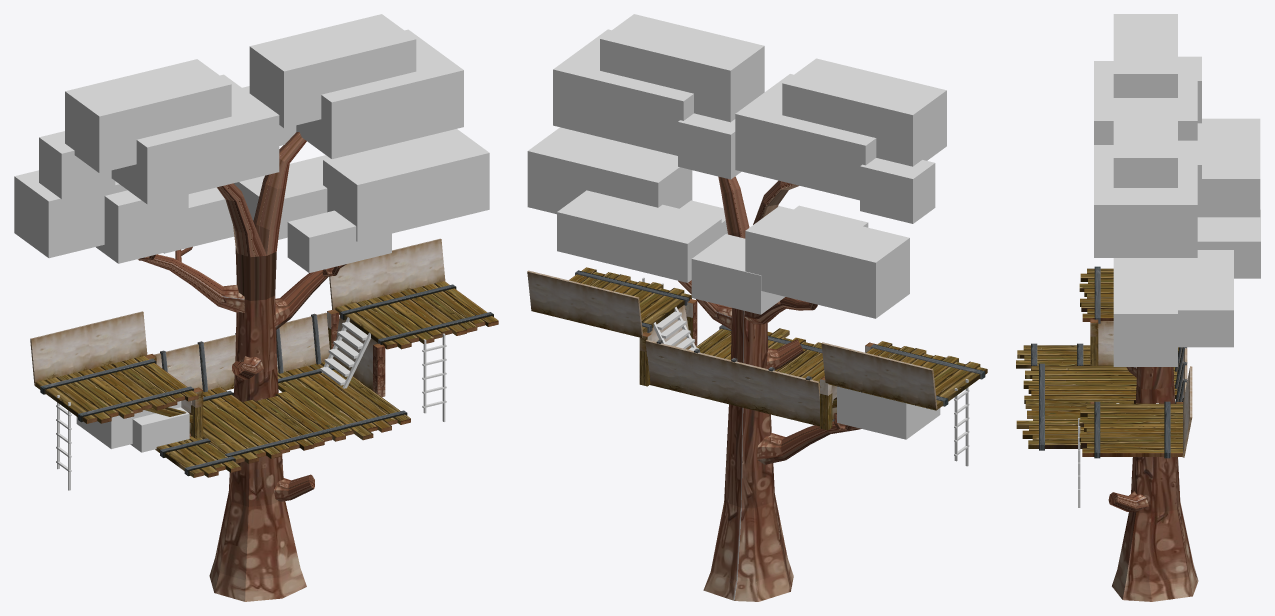
The model's file is House_Mesh.FBX.
3 renders of one model, left to right at view 1: azimuth 30°, elevation 25°; view 2: azimuth 150°, elevation 25°; view 3: azimuth 270°, elevation 25°, orthographic. The views are drawn at different scales.
Parts seen in each view (by area): view 1: Box016, Box039, Box041, Box051, Box048, Box052, Box049, Box044, Box045, Box042, Box040, Box053 (+3 smaller); view 2: Box016, Box039, Box044, Box051, Box048, Box040, Box041, Box052, Box049, Box043, Box053, Box046 (+1 smaller); view 3: Box016, Box039, Box049, Box041, Box044, Box048, Box051, Box040, Box052, Box043, Box050, Box053.
Part boxes in pixels (x1,y1,x2,y2): Box016: (30, 238, 498, 477); Box039: (138, 132, 346, 601); Box041: (323, 129, 489, 241); Box051: (65, 59, 231, 173); Box048: (249, 14, 416, 128); Box052: (111, 74, 279, 204); Box049: (296, 29, 463, 158); Box044: (14, 170, 127, 258); Box045: (96, 190, 188, 263); Box042: (287, 210, 391, 272); Box040: (234, 155, 329, 239); Box053: (39, 131, 115, 199); Box016: (527, 267, 987, 430); Box039: (678, 176, 861, 601); Box044: (745, 206, 909, 318); Box051: (782, 58, 946, 166); Box048: (600, 14, 764, 122); Box040: (557, 190, 721, 282); Box041: (527, 127, 692, 214); Box052: (735, 74, 876, 200); Box049: (553, 29, 693, 155); Box043: (691, 234, 785, 314); Box053: (860, 158, 935, 223); Box046: (837, 386, 940, 439); Box016: (1016, 266, 1192, 458); Box039: (1108, 367, 1198, 601); Box049: (1094, 145, 1197, 257); Box041: (1113, 258, 1177, 366); Box044: (1197, 118, 1260, 217); Box048: (1113, 98, 1177, 187); Box051: (1113, 14, 1177, 97); Box040: (1178, 250, 1233, 347); Box052: (1094, 61, 1197, 144); Box043: (1197, 209, 1260, 278); Box050: (1178, 140, 1201, 207); Box053: (1178, 56, 1201, 123).
Size of the model in its own units: 26.92 by 32.27 by 14.63.
